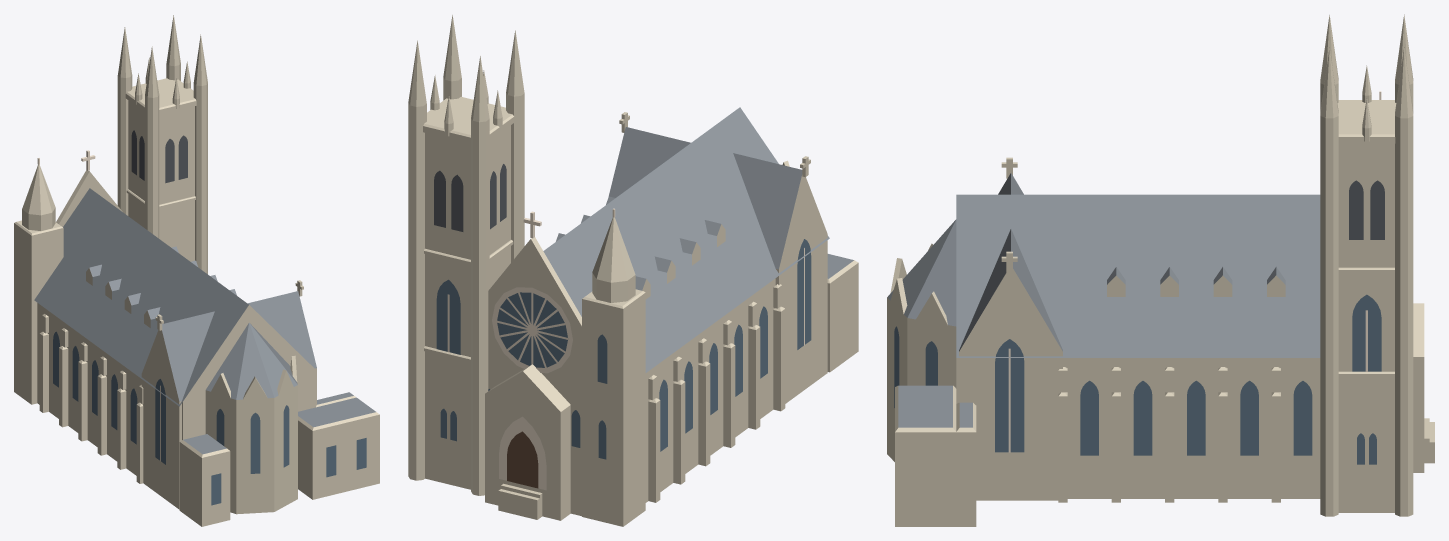
Rendered from atx-st-marys-cathedral.glb.
3 renders of one model, left to right at view 1: azimuth 30°, elevation 25°; view 2: azimuth 150°, elevation 25°; view 3: azimuth 270°, elevation 25°, orthographic. The views are drawn at different scales.
Parts seen in each view (by area): view 1: St. Mary Cathedral; view 2: St. Mary Cathedral; view 3: St. Mary Cathedral.
Part boxes in pixels (bbox=[...]): St. Mary Cathedral: bbox=[14, 15, 379, 526]; St. Mary Cathedral: bbox=[408, 15, 858, 526]; St. Mary Cathedral: bbox=[887, 14, 1434, 526].
Bounding box in the file's own units: 21.5 × 38.6 × 41.1.
